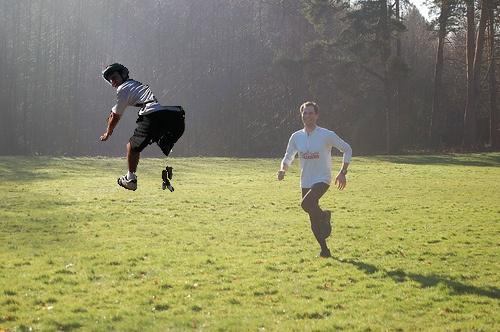tampered: (100, 64, 185, 192)
